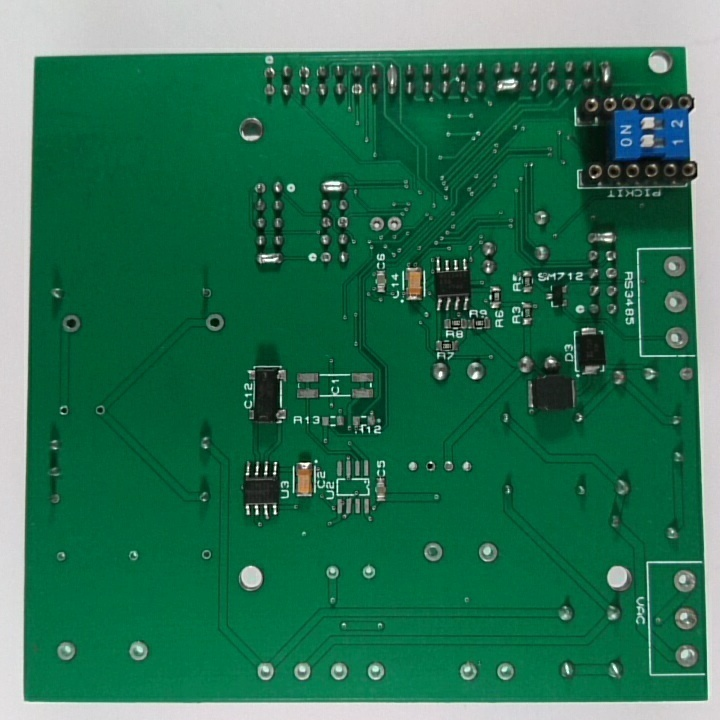F: (662, 286, 697, 314), (671, 563, 696, 601), (659, 325, 693, 352), (659, 251, 688, 280), (673, 604, 700, 635), (419, 541, 447, 567), (124, 640, 151, 666), (673, 643, 699, 670), (476, 540, 500, 568), (457, 658, 483, 683), (253, 660, 279, 684), (493, 660, 516, 686), (59, 313, 85, 335), (202, 312, 226, 335), (56, 640, 81, 662), (366, 661, 387, 686), (330, 660, 351, 684), (293, 660, 313, 684), (386, 214, 407, 235), (365, 212, 386, 232), (676, 366, 696, 386), (196, 283, 215, 304), (322, 566, 341, 585), (405, 457, 422, 478), (348, 80, 366, 99), (251, 180, 268, 199), (262, 64, 279, 82), (604, 264, 620, 283), (360, 565, 379, 581), (296, 63, 313, 80), (424, 458, 441, 475), (125, 548, 145, 562), (45, 492, 65, 506), (318, 251, 335, 267), (459, 459, 476, 475), (56, 550, 72, 566), (57, 401, 73, 417), (335, 215, 353, 229), (443, 458, 459, 473), (95, 403, 109, 418), (199, 551, 215, 563)
P: (492, 75, 527, 99), (584, 226, 621, 247), (252, 250, 287, 270), (385, 59, 401, 100), (318, 177, 350, 197), (599, 60, 613, 92)
